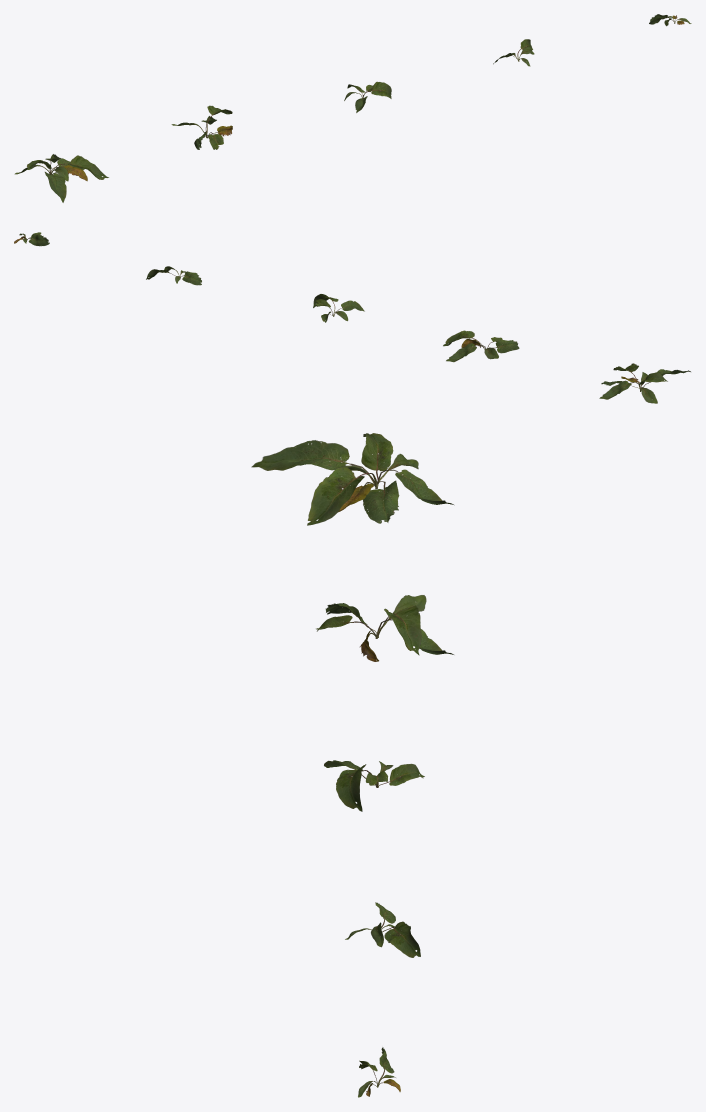
File: weed_plant_02.glb
3 renders of one model, top to bottom at view 1: azimuth 30°, elevation 25°; view 2: azimuth 150°, elevation 25°; view 3: azimuth 270°, elevation 25°, orthographic. The views are drawn at different scales.
Parts seen in each view (by area): view 1: weed_plant_02_a_LOD0, weed_plant_02_b_LOD0, weed_plant_02_c_LOD0, weed_plant_02_d_LOD0; view 2: weed_plant_02_a_LOD0, weed_plant_02_b_LOD0, weed_plant_02_c_LOD0, weed_plant_02_d_LOD0, weed_plant_02_e_LOD0; view 3: weed_plant_02_a_LOD0, weed_plant_02_b_LOD0, weed_plant_02_c_LOD0, weed_plant_02_d_LOD0.
Part boxes in pixels (left/top/right/bottom): weed_plant_02_a_LOD0: left=14, top=154, right=108, bottom=202; weed_plant_02_b_LOD0: left=171, top=105, right=232, bottom=149; weed_plant_02_c_LOD0: left=344, top=81, right=391, bottom=112; weed_plant_02_d_LOD0: left=493, top=39, right=534, bottom=66; weed_plant_02_a_LOD0: left=599, top=363, right=690, bottom=403; weed_plant_02_b_LOD0: left=443, top=330, right=519, bottom=362; weed_plant_02_c_LOD0: left=313, top=294, right=364, bottom=322; weed_plant_02_d_LOD0: left=146, top=266, right=201, bottom=285; weed_plant_02_e_LOD0: left=14, top=232, right=49, bottom=246; weed_plant_02_a_LOD0: left=251, top=433, right=454, bottom=525; weed_plant_02_b_LOD0: left=316, top=595, right=453, bottom=661; weed_plant_02_c_LOD0: left=324, top=760, right=424, bottom=811; weed_plant_02_d_LOD0: left=345, top=902, right=420, bottom=957.
Bounding box in the file's own units: 2.13 × 0.0751 × 0.2909.
2 materials, 2 textured.
